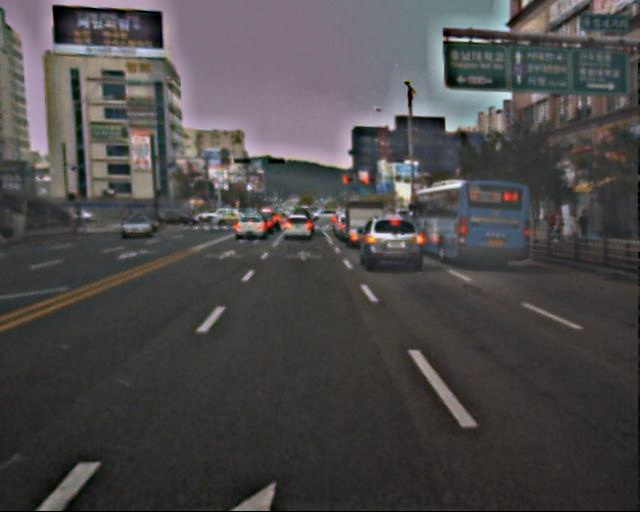person: (575, 209, 592, 252), (546, 210, 566, 239)
